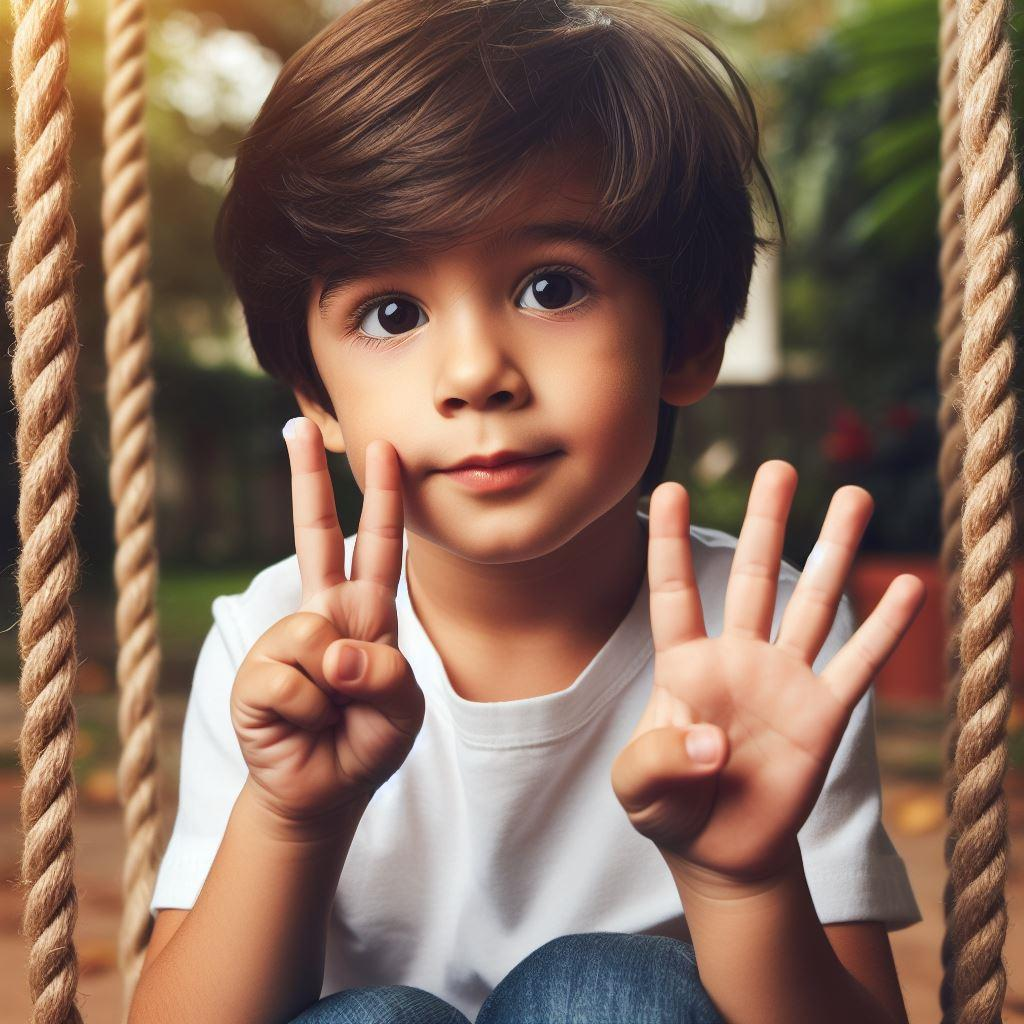NoHuman: (0, 0, 1002, 1005)
